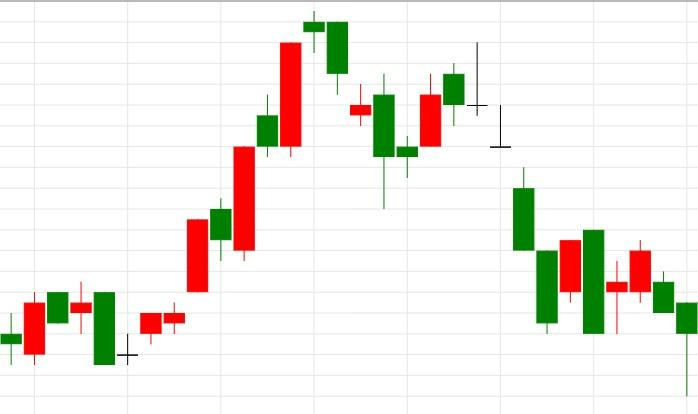hammer_rise: (582, 229, 698, 396)
morning_star_rise: (303, 10, 442, 210)
